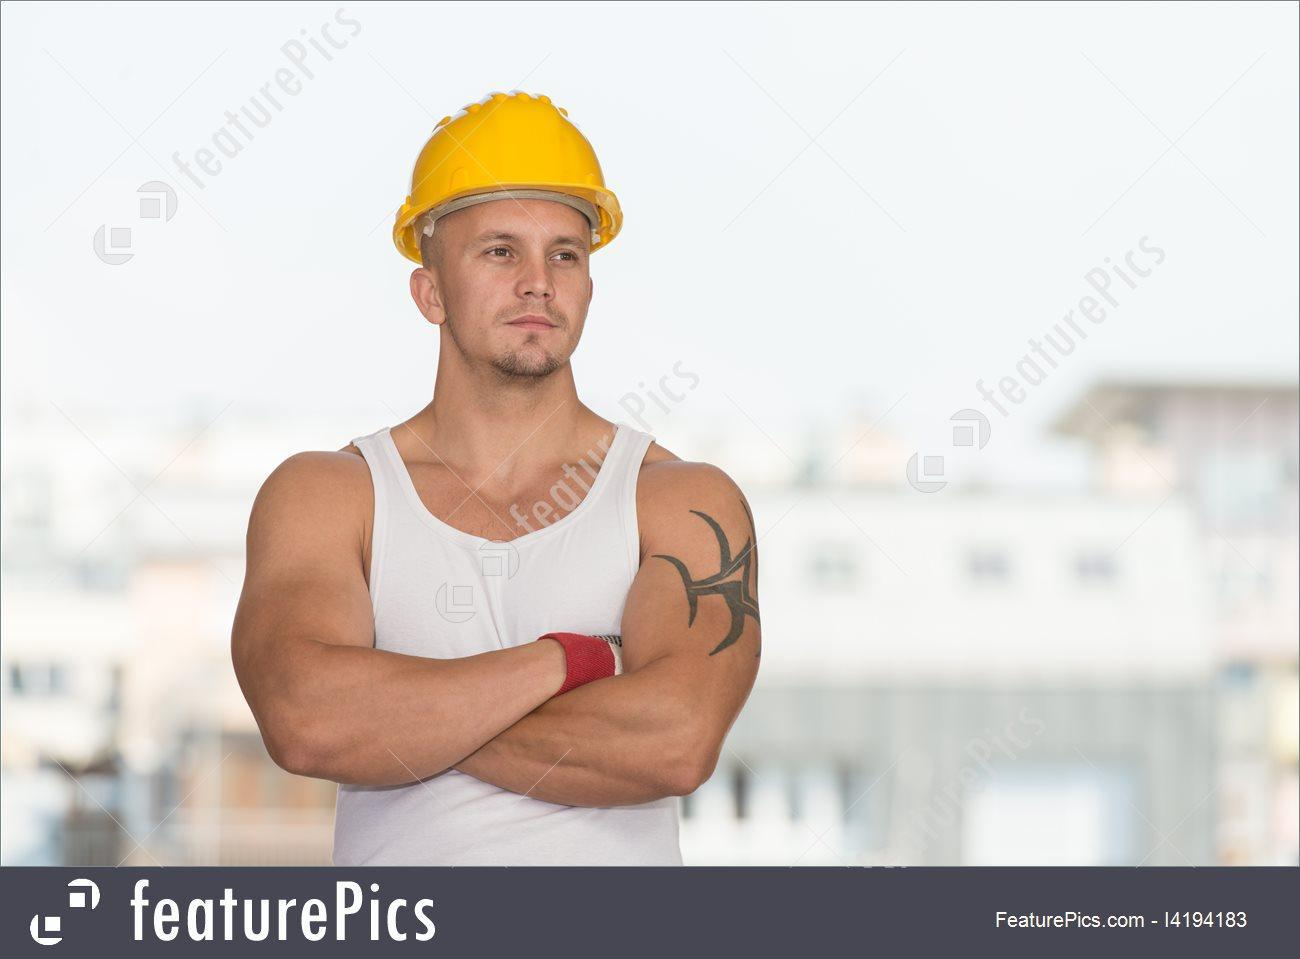helmet: (386, 80, 631, 272)
no-vest: (246, 405, 766, 842)
person: (231, 70, 774, 870)
